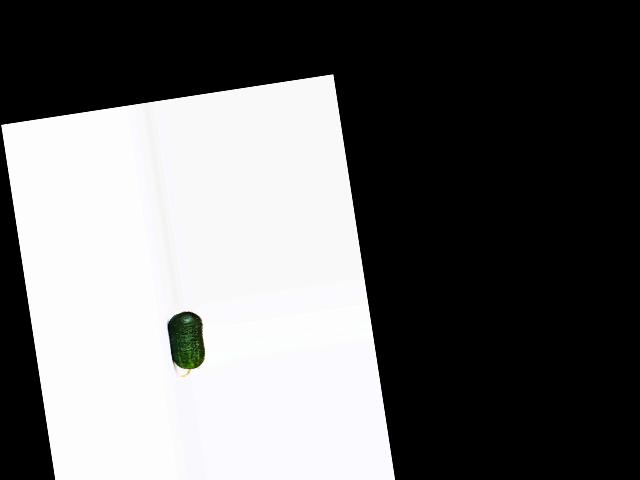cucumber: (165, 310, 210, 378)
